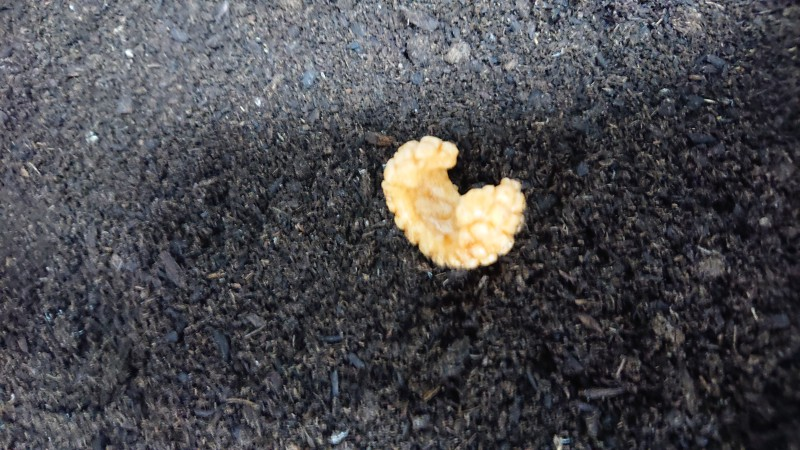eggs: (376, 135, 526, 275)
